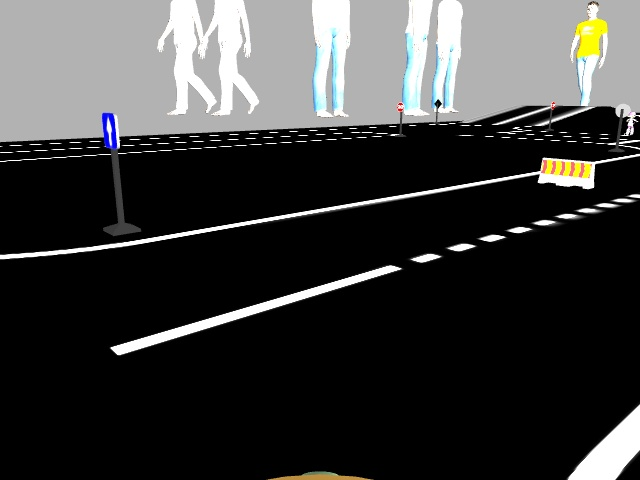ClosedRoadStand: (541, 154, 594, 187)
OneWay: (100, 114, 118, 147)
